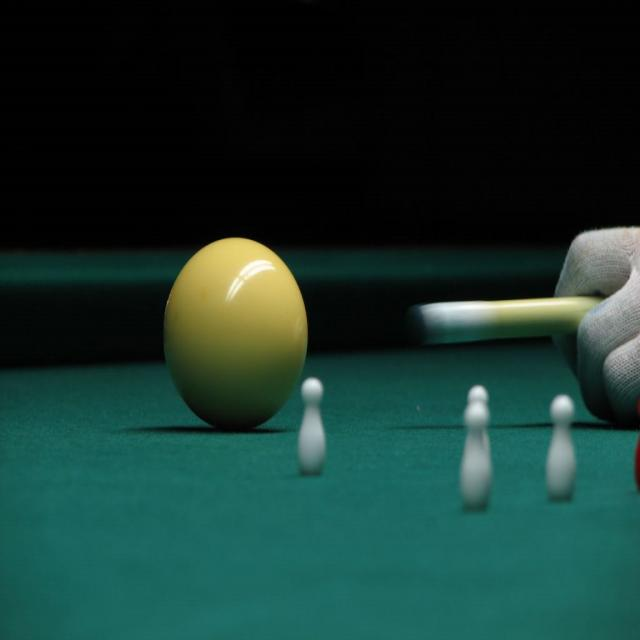Ball: (162, 237, 310, 434)
Billiard table: (0, 251, 639, 639)
